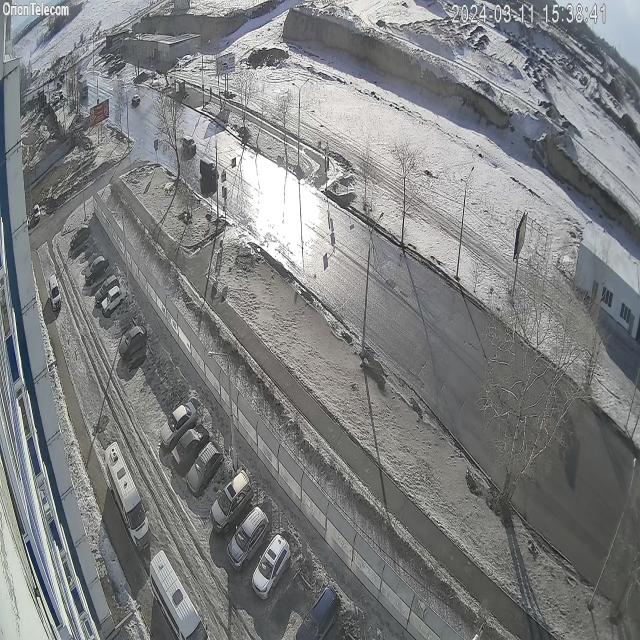car: (147, 548, 211, 640), (105, 438, 153, 554), (226, 506, 270, 574), (209, 470, 254, 536), (251, 532, 292, 602), (295, 585, 342, 640), (186, 441, 224, 497), (160, 399, 198, 449), (172, 425, 210, 470), (118, 321, 150, 362), (101, 282, 128, 319), (94, 273, 121, 306), (84, 254, 108, 286), (70, 221, 90, 253), (48, 272, 63, 314), (199, 154, 220, 183), (181, 132, 197, 155), (32, 202, 42, 225), (131, 91, 141, 109)
